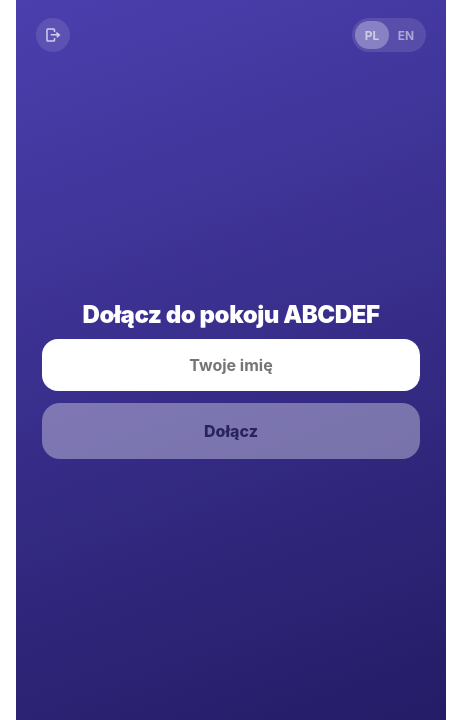
Test case: the Join form name › Join is disabled for a name: Anna
In the field with placeholder "Twoje imię": coordinates (231, 365) [42, 339, 420, 391], type "Anna"
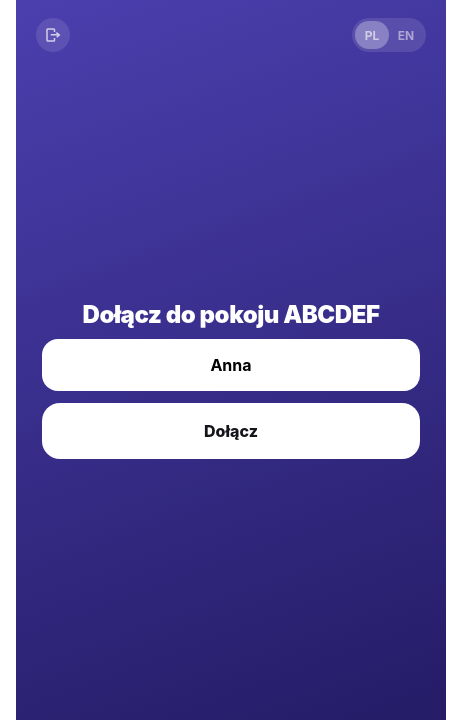
Check: the button "Dołącz" is enabled, box [42, 403, 420, 459]
